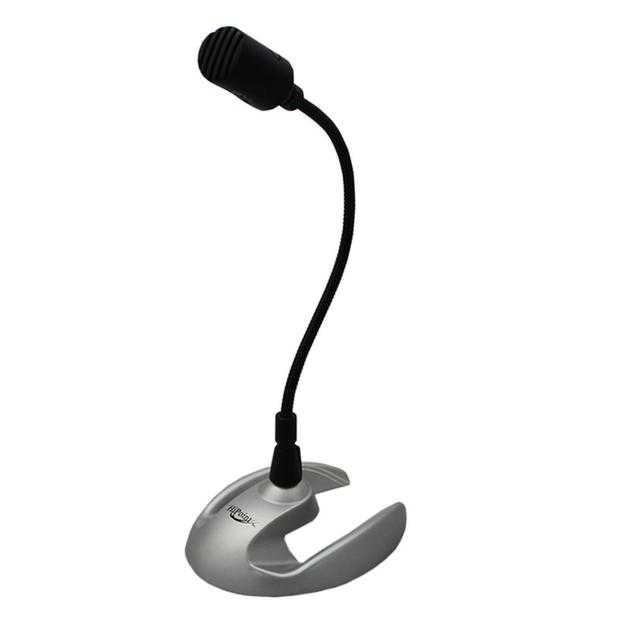microphone: (195, 21, 344, 165)
